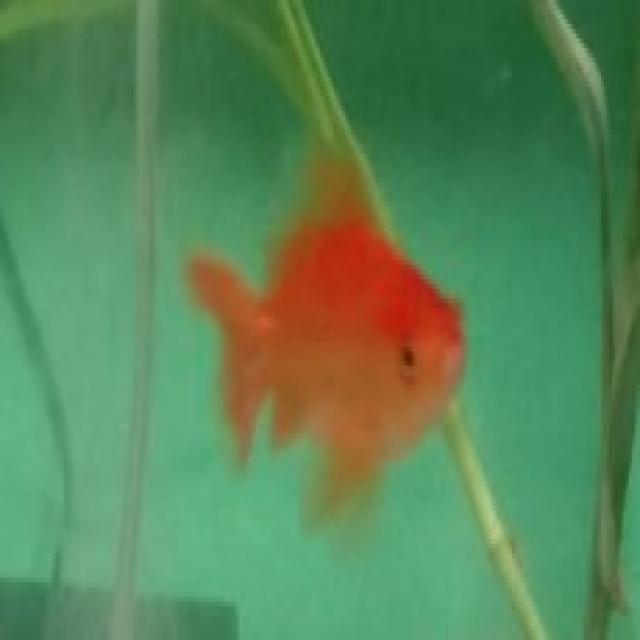Gold-Fish: (167, 158, 537, 581)
